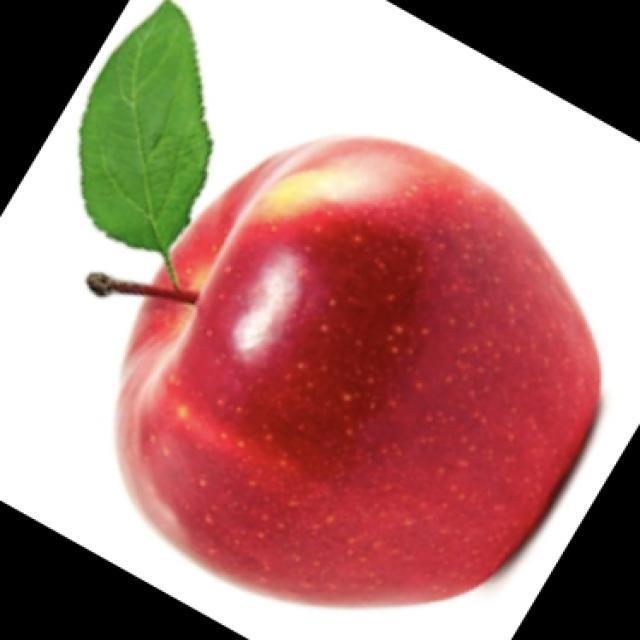Fresh Apple: (113, 127, 604, 611)
